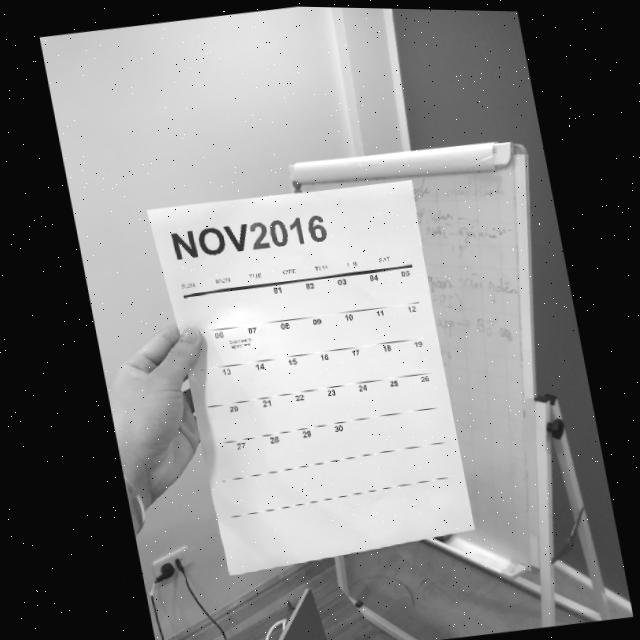document: (153, 181, 473, 576)
